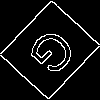G: (25, 25, 87, 85)
